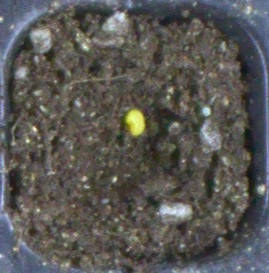chilli seed: (125, 107, 145, 136)
